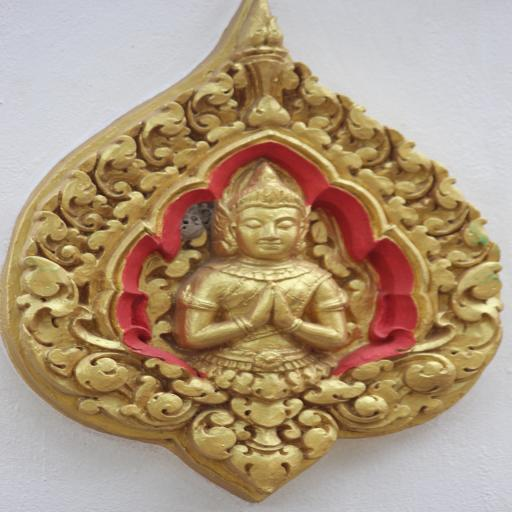la: (178, 388, 346, 489), (17, 256, 85, 339), (388, 337, 488, 390), (229, 21, 296, 100), (448, 257, 506, 345), (43, 336, 130, 390), (374, 133, 442, 201), (402, 164, 468, 230), (17, 204, 85, 261), (335, 380, 409, 430), (186, 71, 238, 139), (98, 128, 147, 198), (288, 69, 346, 128), (341, 100, 393, 164), (57, 167, 112, 226), (145, 96, 192, 164), (122, 384, 188, 432), (433, 215, 491, 265)
than: (172, 161, 359, 390)
